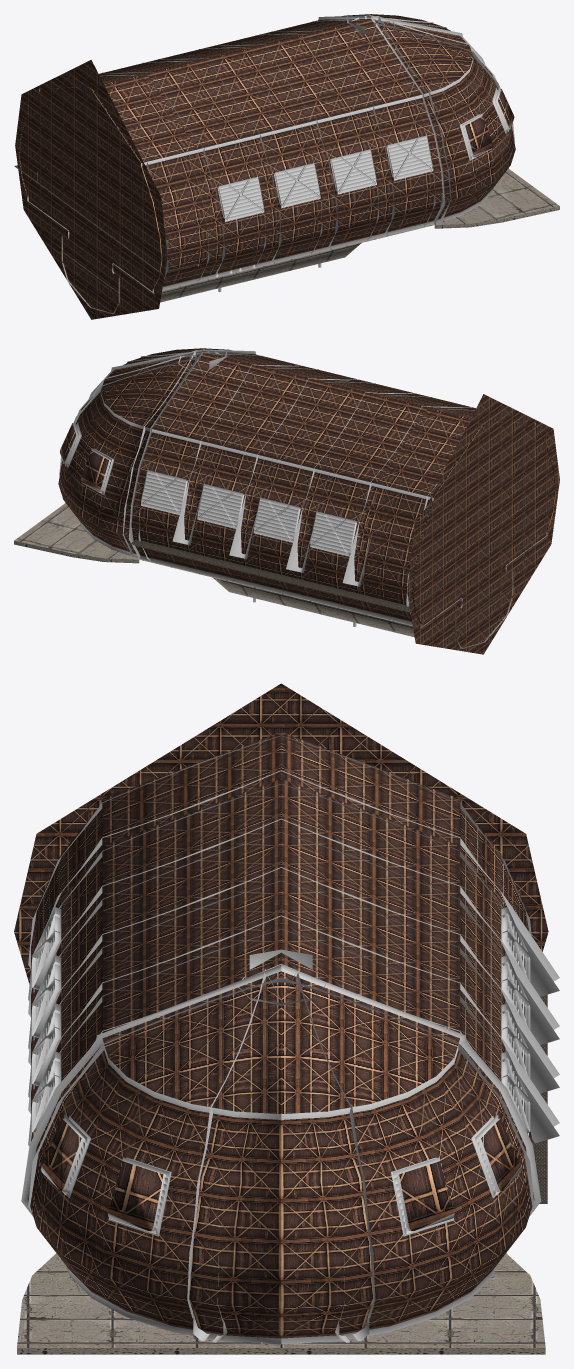
The model's file is Hangar_Interior_Updated.fbx.
The picture shows the model from 3 angles, top to bottom: view 1: azimuth 30°, elevation 25°; view 2: azimuth 150°, elevation 25°; view 3: azimuth 270°, elevation 25°; orthographic projection. The views are drawn at different scales.
Parts seen in each view (by area): view 1: Hangar_Wall_A, Hangar_Wall_C, Hangar_Door_A, Floor, Hangar_Wall_B, Hangar_Door_B; view 2: Hangar_Wall_B, Hangar_Wall_C, Hangar_Door_B, Floor, Hangar_Wall_A, Second_Floor, Hangar_Door_A, Camera_Safe_Arch; view 3: Hangar_Door_A, Hangar_Door_B, Hangar_Wall_B, Hangar_Wall_A, Floor, Hangar_Wall_C, Camera_Safe_Arch, Second_Floor, Topcover.
Part boxes in pixels (x1,y1,x2,y2): Hangar_Wall_A: (90,17,451,292); Hangar_Wall_C: (15,60,167,319); Hangar_Door_A: (370,15,515,225); Floor: (27,168,559,313); Hangar_Wall_B: (18,19,369,201); Hangar_Door_B: (318,14,450,30); Hangar_Wall_B: (131,353,484,627); Hangar_Wall_C: (407,394,559,654); Hangar_Door_B: (58,349,204,559); Floor: (14,503,547,648); Hangar_Wall_A: (195,350,556,535); Second_Floor: (130,504,555,611); Hangar_Door_A: (89,348,255,398); Camera_Safe_Arch: (122,351,209,561); Hangar_Door_A: (21,965,295,1344); Hangar_Door_B: (267,965,541,1344); Hangar_Wall_B: (281,732,559,1143); Hangar_Wall_A: (28,732,281,1259); Floor: (17,1253,545,1354); Hangar_Wall_C: (14,683,548,984); Camera_Safe_Arch: (281,964,534,1259); Second_Floor: (531,994,547,1203); Topcover: (237,949,325,1005).
Size of the model in its own units: 16.38 by 9.94 by 10.78.
